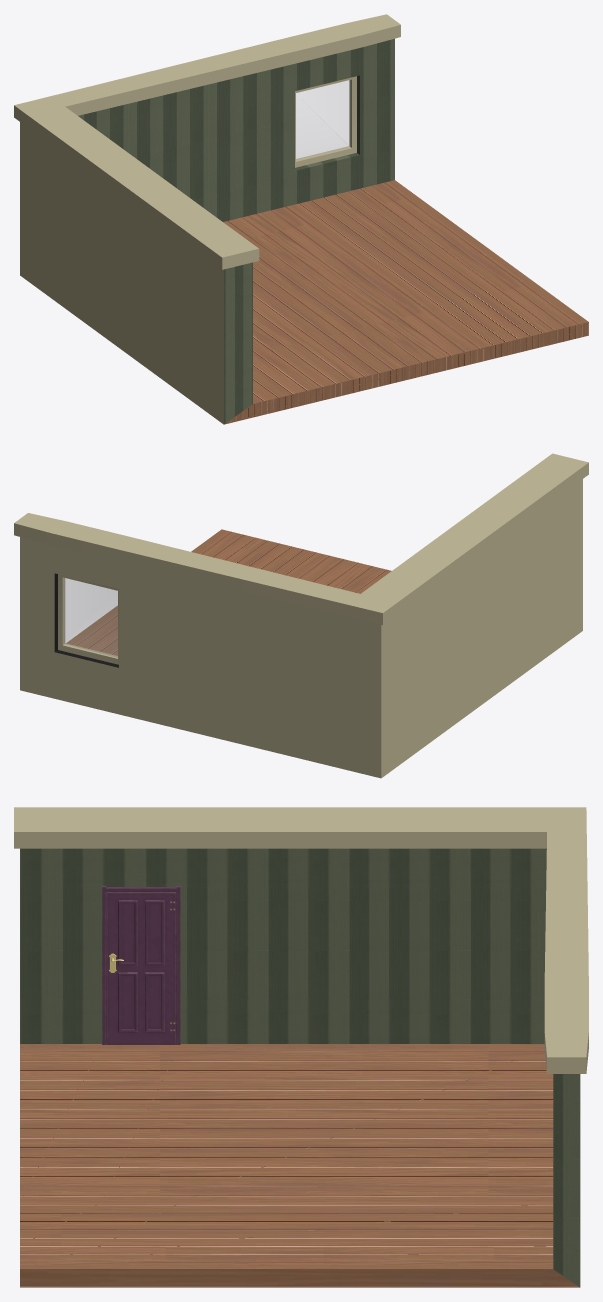
Rendered from cenarioJogoCarta.fbx.
3 renders of one model, top to bottom at view 1: azimuth 30°, elevation 25°; view 2: azimuth 150°, elevation 25°; view 3: azimuth 270°, elevation 25°, orthographic. The views are drawn at different scales.
Parts seen in each view (by area): view 1: Cube; view 2: Cube; view 3: Cube, Door.
Part boxes in pixels (<box>): Cube: <box>14,14,588,424</box>; Cube: <box>14,453,588,778</box>; Cube: <box>14,807,588,1287</box>; Door: <box>102,885,180,1044</box>.
Size of the model in its own units: 492 by 214 by 478.
6 materials, 3 textured.
